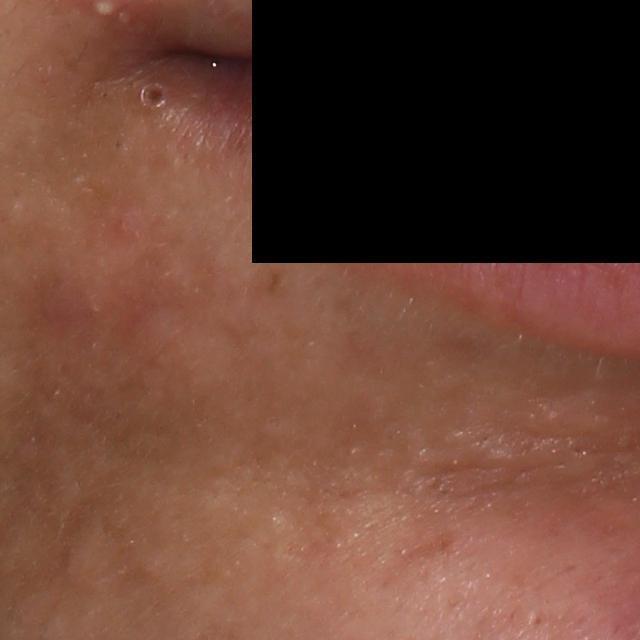comedo: (133, 73, 180, 119), (528, 611, 547, 630)
